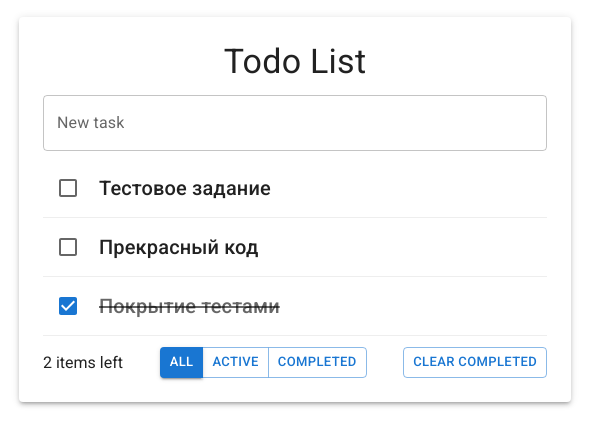
TodoApp › Фильтрует активные задачи
Click the button "Active" at [236, 362], box top-left (202, 347), bottom-right (269, 378)
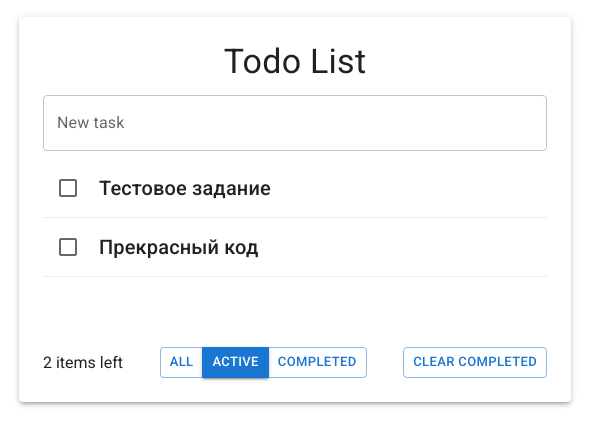
Expected: the heading "Тестовое задание" is shown, top-left (99, 176), bottom-right (271, 200)
Expected: the heading "Покрытие тестами" is gone
